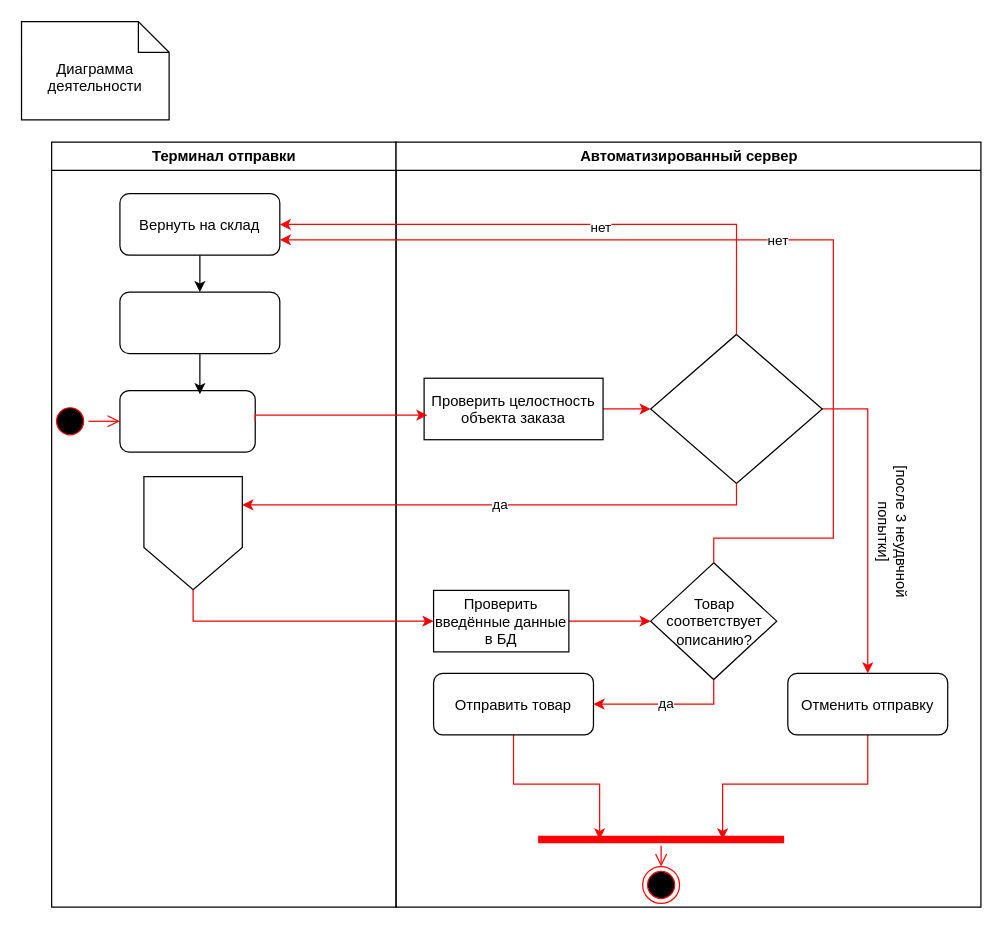
The diagram is 1002 pixels wide and 929 high, and some of its shapes have lost their labels. Each missing label, with the centre of its shape:
Документы и информация укомплектованы?: the point at 735,408
Доукомплектация: the point at 199,322
Запрос информации о товаре по номеру: the point at 192,532
считать штрихкод товара: the point at 187,420
